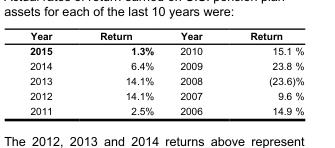table: (29, 29, 303, 116)
table column: (75, 29, 166, 116), (225, 29, 303, 116), (166, 29, 225, 116), (29, 29, 75, 116)
table column header: (29, 29, 303, 42)
table row: (29, 72, 303, 88), (29, 42, 303, 57), (29, 57, 303, 72), (29, 88, 303, 103), (29, 29, 303, 42), (29, 103, 303, 116)
